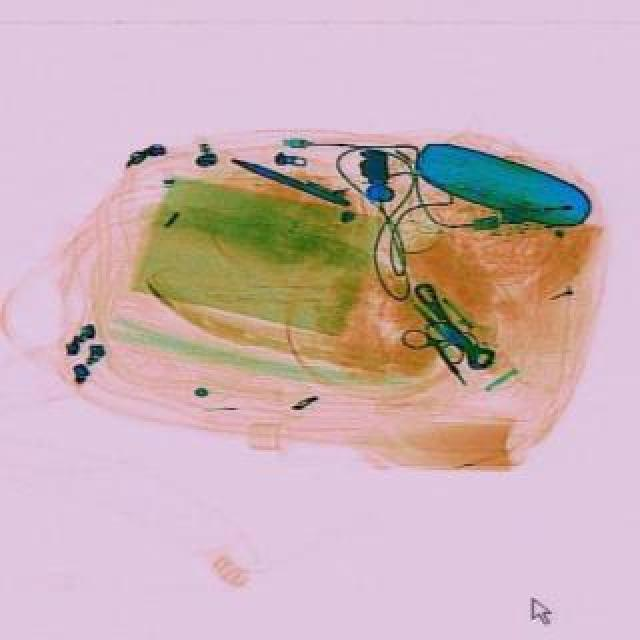pliers: (396, 310, 486, 402)
